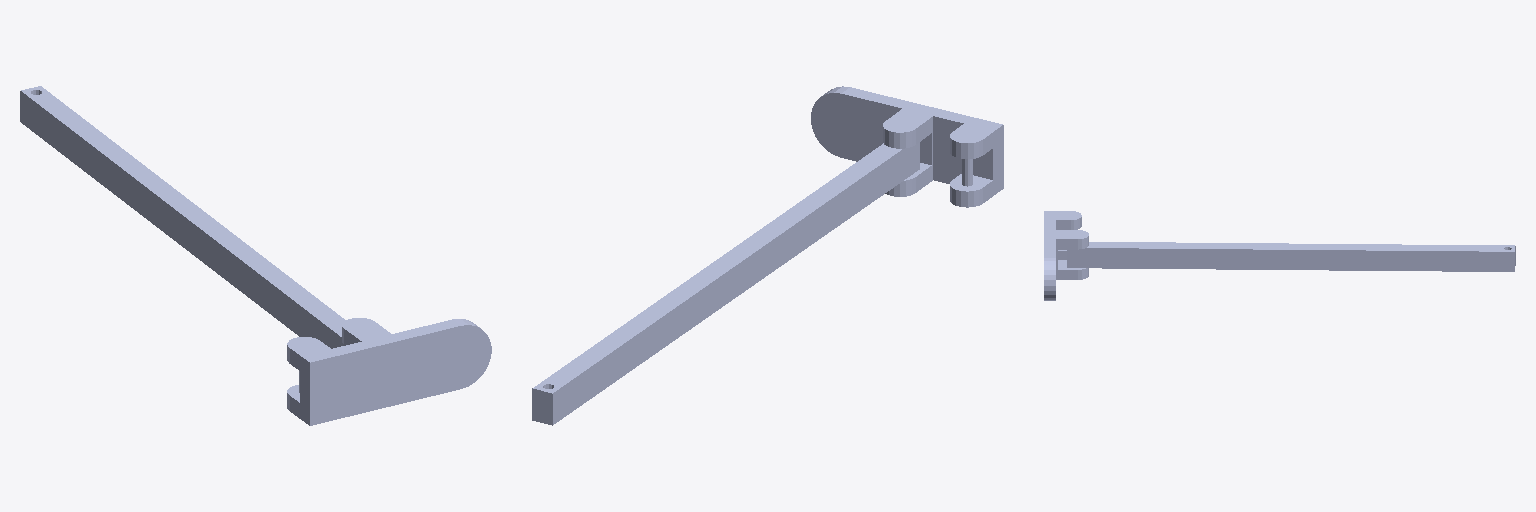
robot.urdf — Isolated_foot2:
<?xml version="1.0" encoding="utf-8"?>
<!-- This URDF was automatically created by SolidWorks to URDF Exporter! Originally created by Stephen Brawner (brawner@gmail.com) 
     Commit Version: 1.6.0-4-g7f85cfe  Build Version: 1.6.7995.38578
     For more information, please see http://wiki.ros.org/sw_urdf_exporter -->
<robot
  name="Isolated_foot2">
  <link
    name="base_link">
    <inertial>
      <origin
        xyz="0.074429622926767 0.0158722563219439 0.0299999997558599"
        rpy="0 0 0" />
      <mass
        value="0.231623891688802" />
      <inertia
        ixx="0.000127587891035077"
        ixy="4.44076330105105E-05"
        ixz="-1.66420629659901E-12"
        iyy="0.000622810959587715"
        iyz="1.3643920152592E-12"
        izz="0.000588958363265217" />
    </inertial>
    <visual>
      <origin
        xyz="0 0 0"
        rpy="0 0 0" />
      <geometry>
        <mesh
          filename="package://Isolated_foot2/meshes/base_link.STL" />
      </geometry>
      <material
        name="">
        <color
          rgba="0.792156862745098 0.819607843137255 0.933333333333333 1" />
      </material>
    </visual>
    <collision>
      <origin
        xyz="0 0 0"
        rpy="0 0 0" />
      <geometry>
        <mesh
          filename="package://Isolated_foot2/meshes/base_link.STL" />
      </geometry>
    </collision>
  </link>
  <link
    name="link1">
    <inertial>
      <origin
        xyz="0.00595403367324815 0.284904633110252 2.77555756156289E-17"
        rpy="0 0 0" />
      <mass
        value="0.355287611019615" />
      <inertia
        ixx="0.010432539425972"
        ixy="-0.000217215714398316"
        ixz="-2.15455744367484E-21"
        iyy="4.31565660826886E-05"
        iyz="1.02609496929016E-19"
        izz="0.0104224028504017" />
    </inertial>
    <visual>
      <origin
        xyz="0 0 0"
        rpy="0 0 0" />
      <geometry>
        <mesh
          filename="package://Isolated_foot2/meshes/link1.STL" />
      </geometry>
      <material
        name="">
        <color
          rgba="0.792156862745098 0.819607843137255 0.933333333333333 1" />
      </material>
    </visual>
    <collision>
      <origin
        xyz="0 0 0"
        rpy="0 0 0" />
      <geometry>
        <mesh
          filename="package://Isolated_foot2/meshes/link1.STL" />
      </geometry>
    </collision>
  </link>
  <joint
    name="joint1"
    type="revolute">
    <origin
      xyz="0.075 0.045 0.03"
      rpy="0 0 0" />
    <parent
      link="base_link" />
    <child
      link="link1" />
    <axis
      xyz="0 0 -1" />
    <limit
      lower="-0.75"
      upper="0.75"
      effort="1"
      velocity="0.2" />
  </joint>
</robot>

--- Render facts (derived) ---
The picture shows the robot from 3 angles, left to right: view 1: azimuth 30°, elevation 25°; view 2: azimuth 150°, elevation 25°; view 3: azimuth 270°, elevation 25°; orthographic projection.
Robot: Isolated_foot2 — 2 links, 1 joints (1 revolute); root link base_link; default pose: every joint at zero.
Links seen in each view (by area): view 1: link1, base_link; view 2: link1, base_link; view 3: link1, base_link.
Boxes of the visible links, box(x1,y1,x2,y2) form: link1: box(20, 86, 345, 348); base_link: box(287, 318, 491, 425); link1: box(532, 142, 919, 425); base_link: box(811, 86, 1003, 207); link1: box(1067, 242, 1515, 271); base_link: box(1044, 211, 1088, 300).
Size in the robot's own frame: 0.1798 by 0.6301 by 0.06 metres.
Meshes: 2 distinct files referenced, 2 mesh visuals loaded (2 binary STL).
